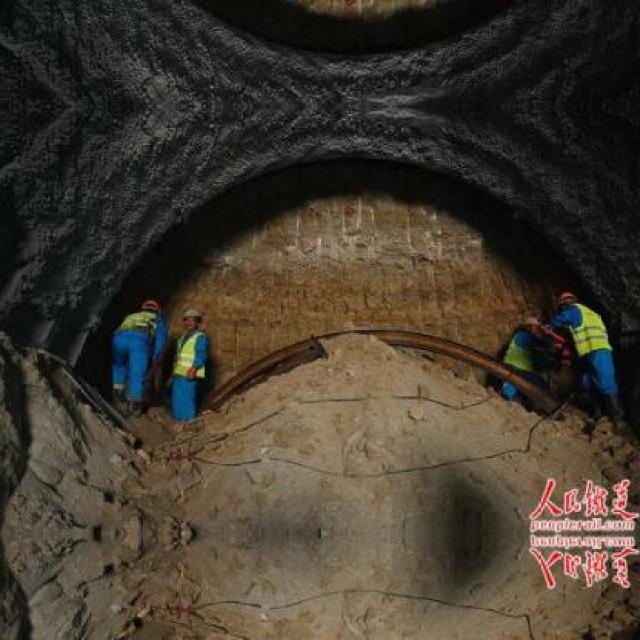helmet: (554, 288, 574, 316), (522, 313, 540, 336), (182, 306, 200, 328), (141, 296, 157, 319)
